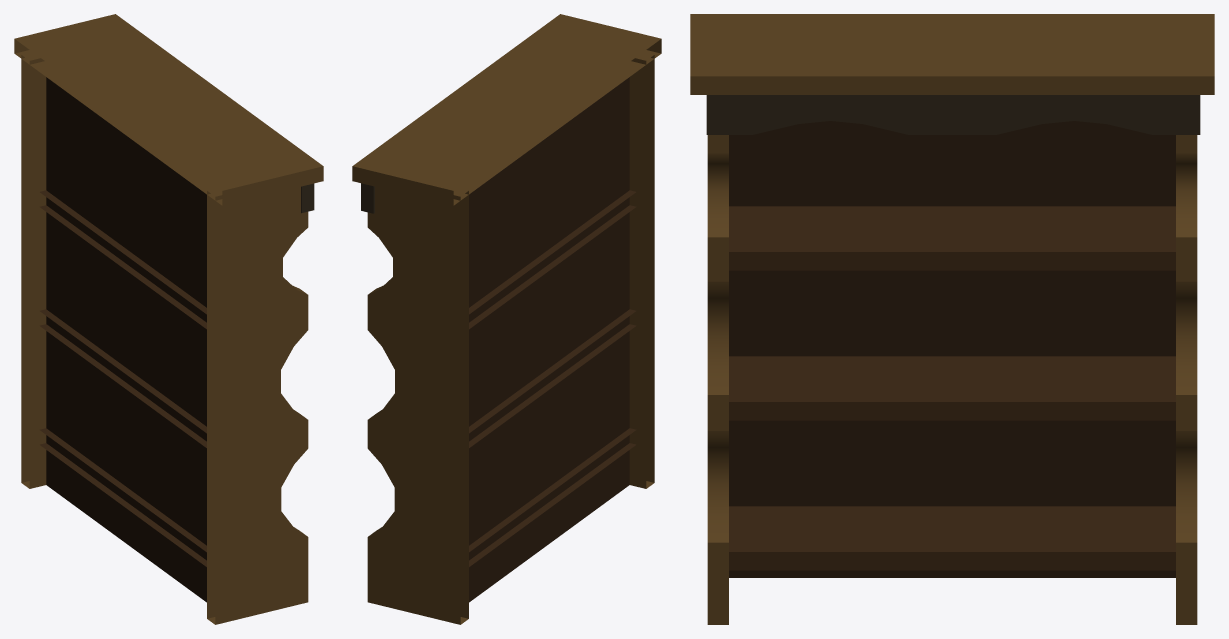
File: Witch Shelves.fbx
3 renders of one model, left to right at view 1: azimuth 30°, elevation 25°; view 2: azimuth 150°, elevation 25°; view 3: azimuth 270°, elevation 25°, orthographic. The views are drawn at different scales.
Parts seen in each view (by area): view 1: Witch Shelves; view 2: Witch Shelves; view 3: Witch Shelves.
Boxes of the visible parts, x1=… form: Witch Shelves: x1=14, y1=14, x2=323, y2=624; Witch Shelves: x1=352, y1=14, x2=661, y2=624; Witch Shelves: x1=690, y1=14, x2=1214, y2=624.
Size of the model in its own units: 1.22 by 5.08 by 4.36.
